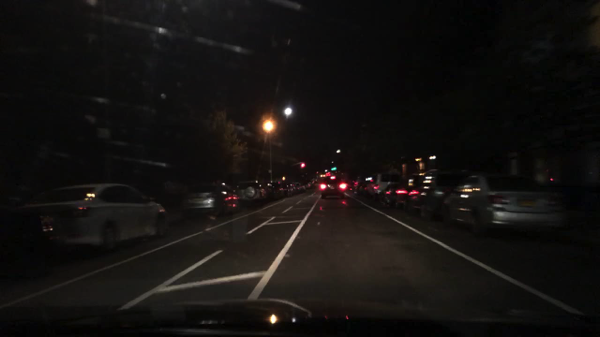car: (22, 184, 169, 254), (441, 171, 570, 237), (0, 198, 50, 272), (407, 168, 471, 220), (182, 184, 241, 218), (362, 171, 400, 199), (395, 174, 423, 210), (237, 181, 267, 206), (319, 175, 348, 198), (380, 184, 402, 205), (351, 176, 373, 195), (267, 180, 287, 199), (285, 184, 297, 195), (297, 183, 306, 192), (304, 181, 313, 188), (311, 178, 317, 183), (320, 174, 325, 178)
traffic light: (299, 163, 305, 170), (332, 167, 337, 174)
